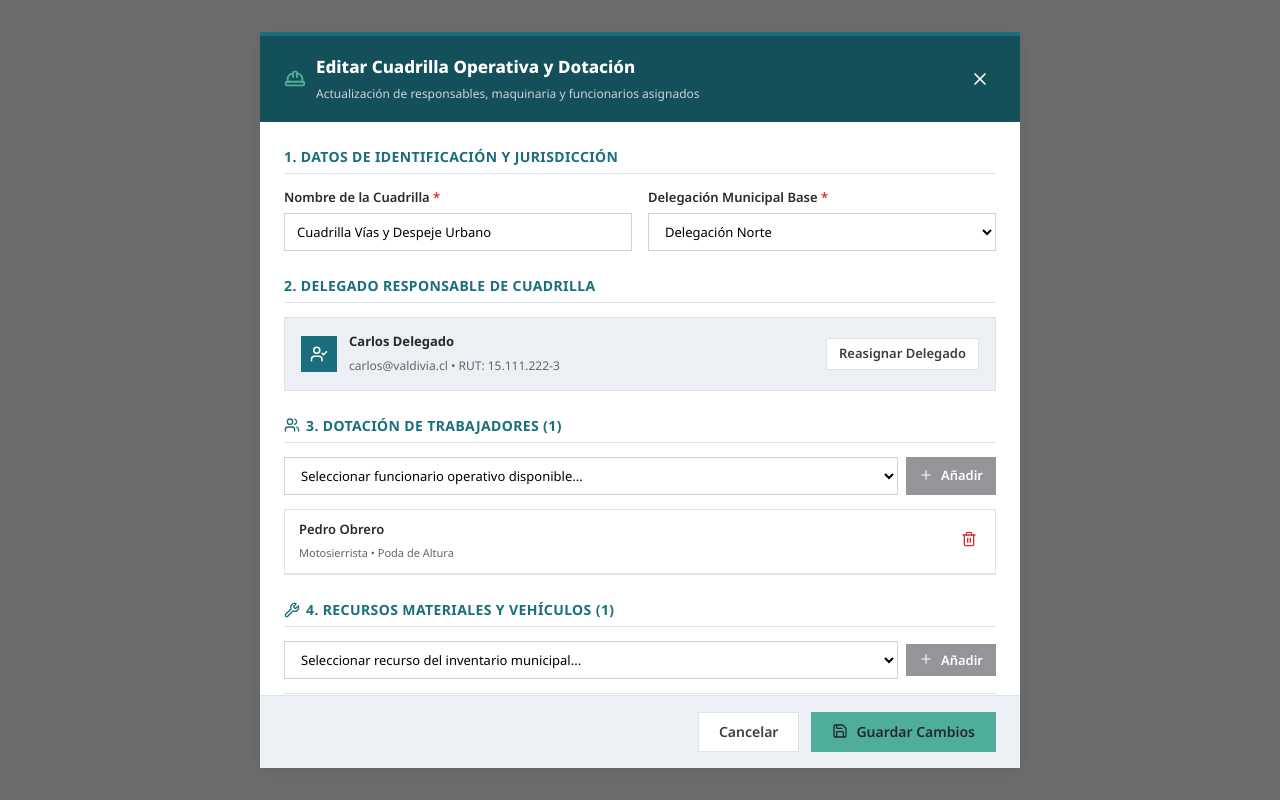
it: CuadrillaEditarModal (H81) › debe capturar error 409 Conflict de nombre duplicado y mostrar el mensaje en el campo correspondiente
expect the field showing "Cuadrilla Vías y Despeje Urbano" is shown: met, box [284,213,632,251]
Click the button "Guardar Cambios" at (904, 732), box [811,712,996,752]
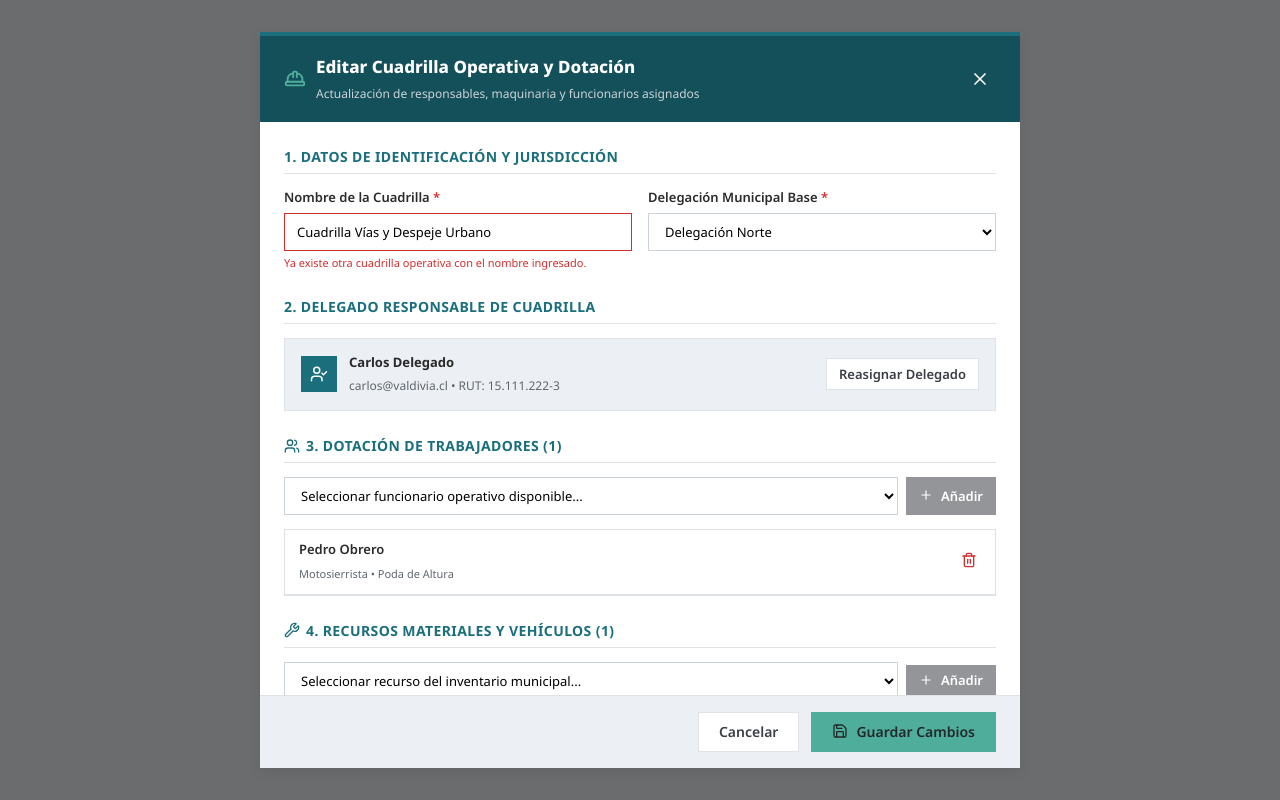
expect the text "Ya existe otra cuadrilla operativa con el nombre ingresado." is shown: met, box [284,255,632,272]
